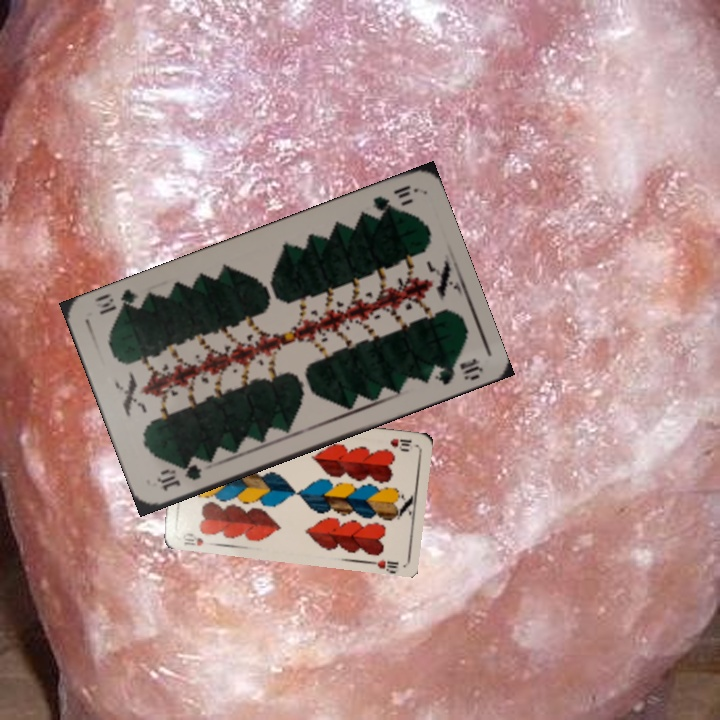G10: (152, 460, 204, 494), (368, 181, 417, 217)
H10: (179, 529, 206, 548), (386, 435, 414, 452)
